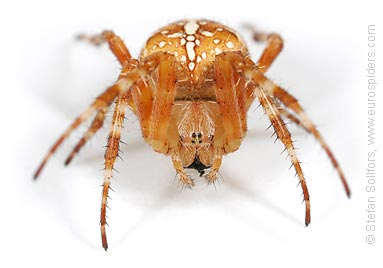spider: (31, 7, 358, 253)
